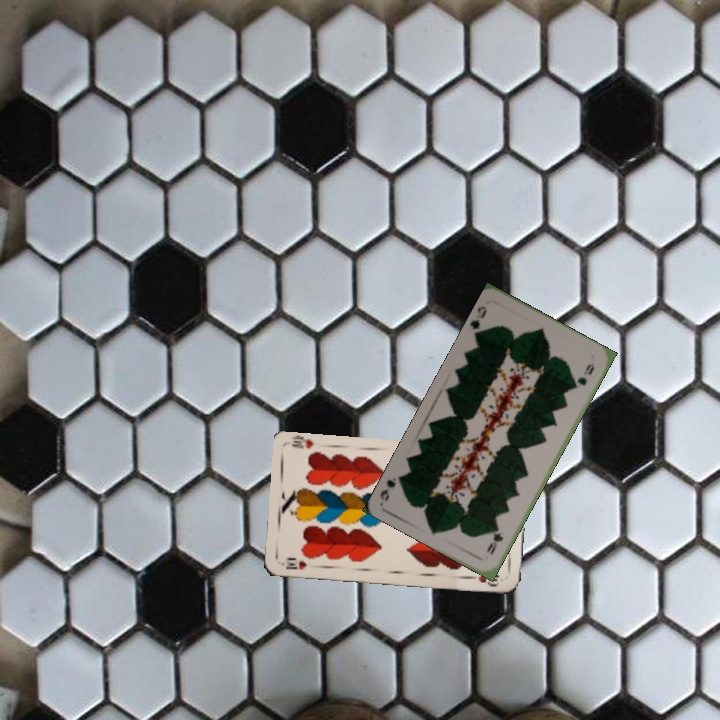G9: (467, 301, 489, 339), (482, 524, 506, 558)
H10: (277, 554, 309, 572)
